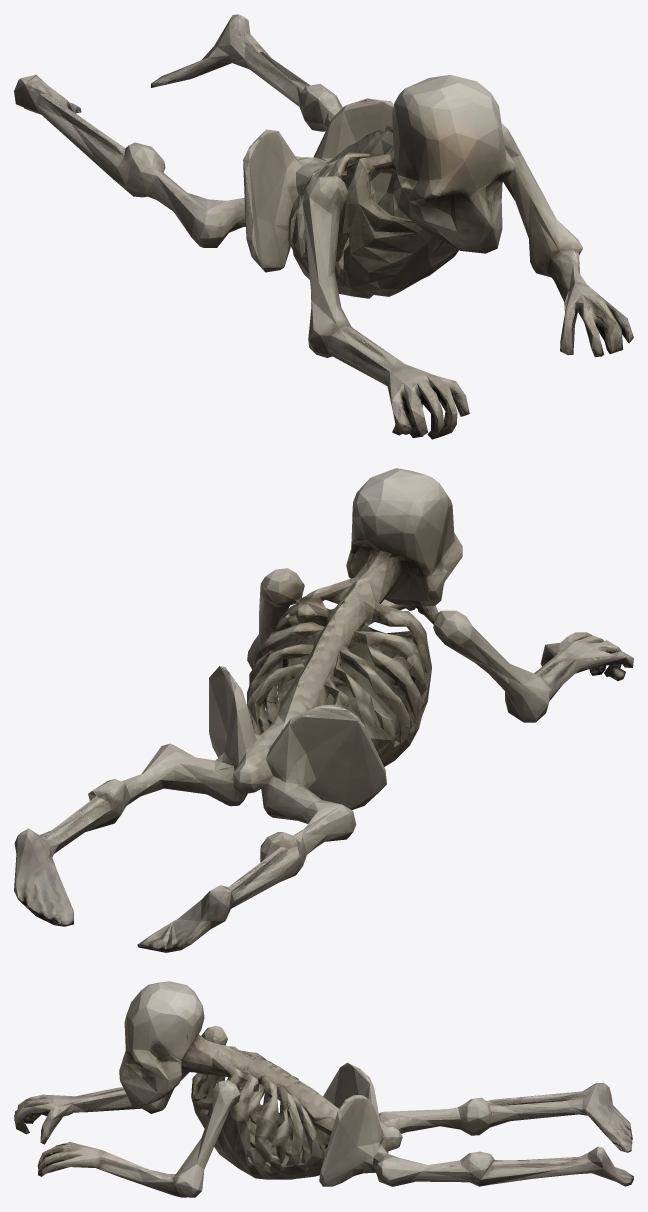
The model's file is skeleton_prone.glb.
3 renders of one model, top to bottom at view 1: azimuth 30°, elevation 25°; view 2: azimuth 150°, elevation 25°; view 3: azimuth 270°, elevation 25°, orthographic. The views are drawn at different scales.
Parts seen in each view (by area): view 1: geometry_0; view 2: geometry_0; view 3: geometry_0.
Boxes of the visible parts, x1,y1,x2,y2 form: geometry_0: [14, 14, 633, 439]; geometry_0: [14, 468, 633, 952]; geometry_0: [14, 981, 633, 1197].
Size of the model in its own units: 0.3888 by 0.333 by 0.9969.
Materials: 1 (1 with a texture image).
